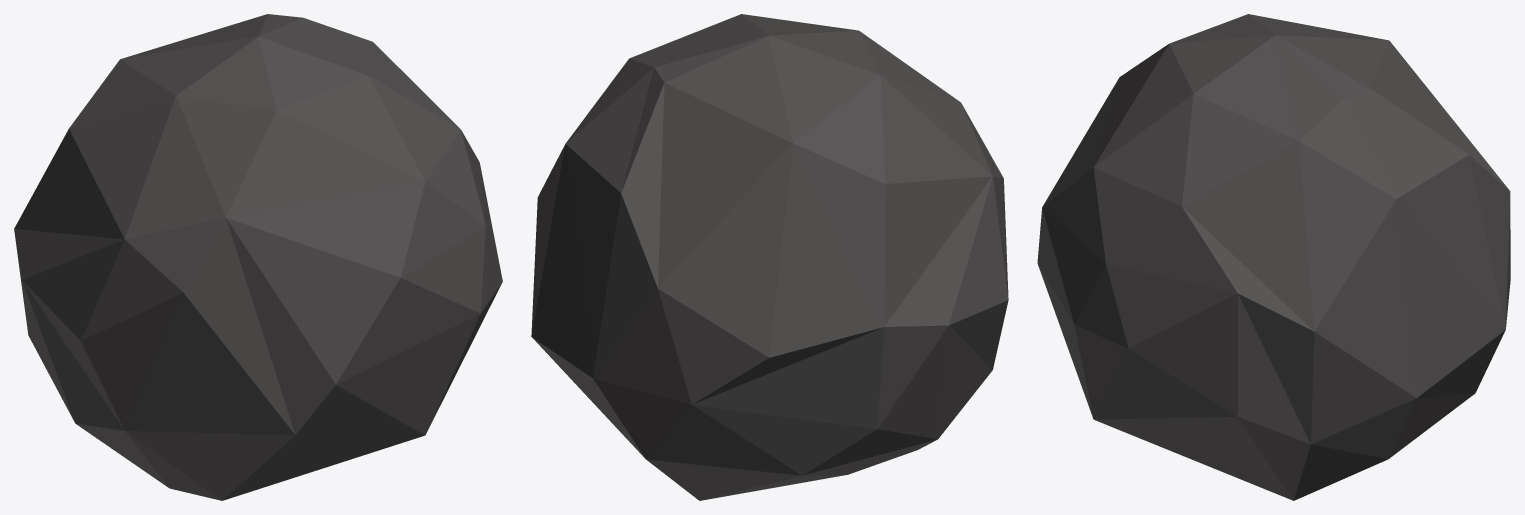
The model's file is LPSWP_TrebuchetRock01.fbx.
3 views of the same model, side by side, from view 1: azimuth 30°, elevation 25°; view 2: azimuth 150°, elevation 25°; view 3: azimuth 270°, elevation 25° (orthographic).
Parts seen in each view (by area): view 1: LPSWP_TrebuchetRock01; view 2: LPSWP_TrebuchetRock01; view 3: LPSWP_TrebuchetRock01.
Part boxes in pixels (box(x1,y1,x2,y2)): LPSWP_TrebuchetRock01: box(14, 14, 502, 500); LPSWP_TrebuchetRock01: box(531, 14, 1008, 500); LPSWP_TrebuchetRock01: box(1037, 14, 1510, 500).
Bounding box in the file's own units: 0.6297 × 0.6459 × 0.6241.
